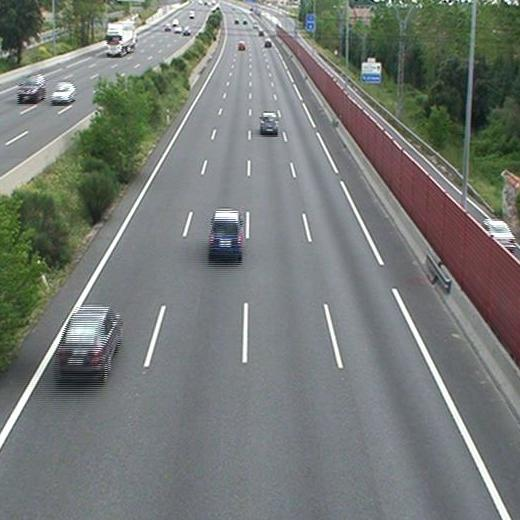car: (58, 307, 119, 375), (210, 211, 240, 255), (259, 113, 278, 132), (264, 39, 272, 50), (239, 42, 245, 51)
